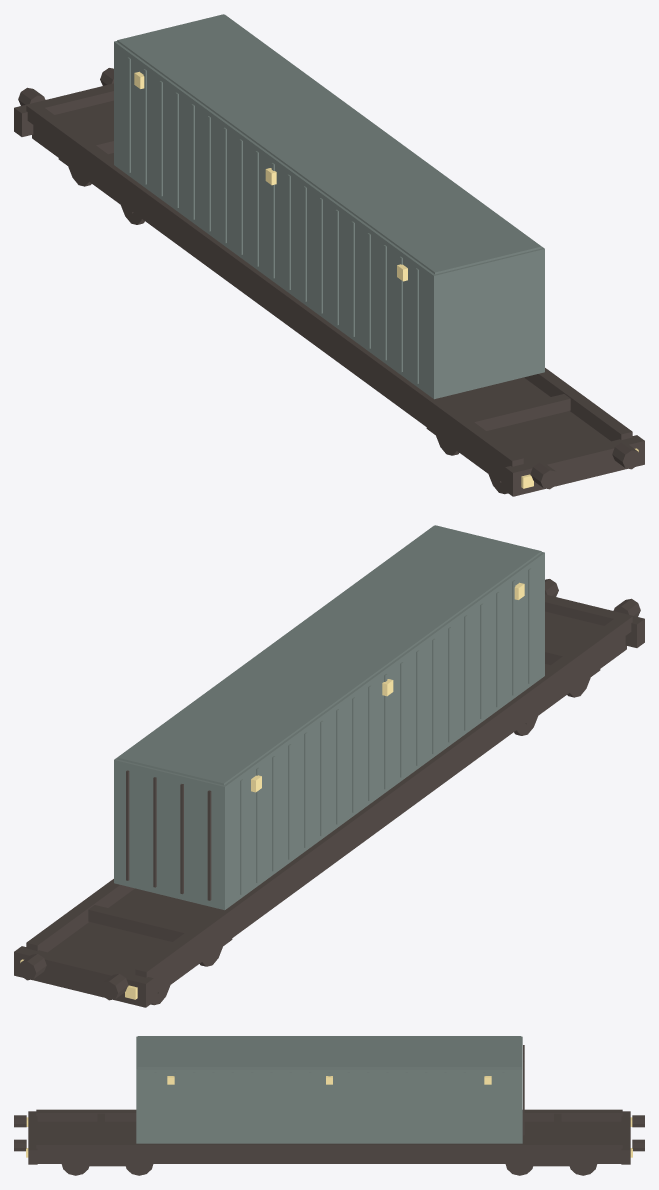
Rendered from SM_Vagon_Cercano_v3_LOD0.fbx.
3 views of the same model, one above another, from view 1: azimuth 30°, elevation 25°; view 2: azimuth 150°, elevation 25°; view 3: azimuth 270°, elevation 25° (orthographic). The views are drawn at different scales.
Visible parts, largest first — view 1: SM_bloques.vagon_cercano_v3_LOD0, Emision; view 2: SM_bloques.vagon_cercano_v3_LOD0, Emision; view 3: SM_bloques.vagon_cercano_v3_LOD0, Emision.
Part boxes in pixels (x1=…): SM_bloques.vagon_cercano_v3_LOD0: x1=14, y1=14, x2=644, y2=496; Emision: x1=134, y1=71, x2=638, y2=488; SM_bloques.vagon_cercano_v3_LOD0: x1=14, y1=525, x2=644, y2=1007; Emision: x1=20, y1=582, x2=524, y2=999; SM_bloques.vagon_cercano_v3_LOD0: x1=14, y1=1036, x2=644, y2=1175; Emision: x1=26, y1=1076, x2=632, y2=1157.
Bounding box in the file's own units: 2.9 × 3.9 × 19.9.
